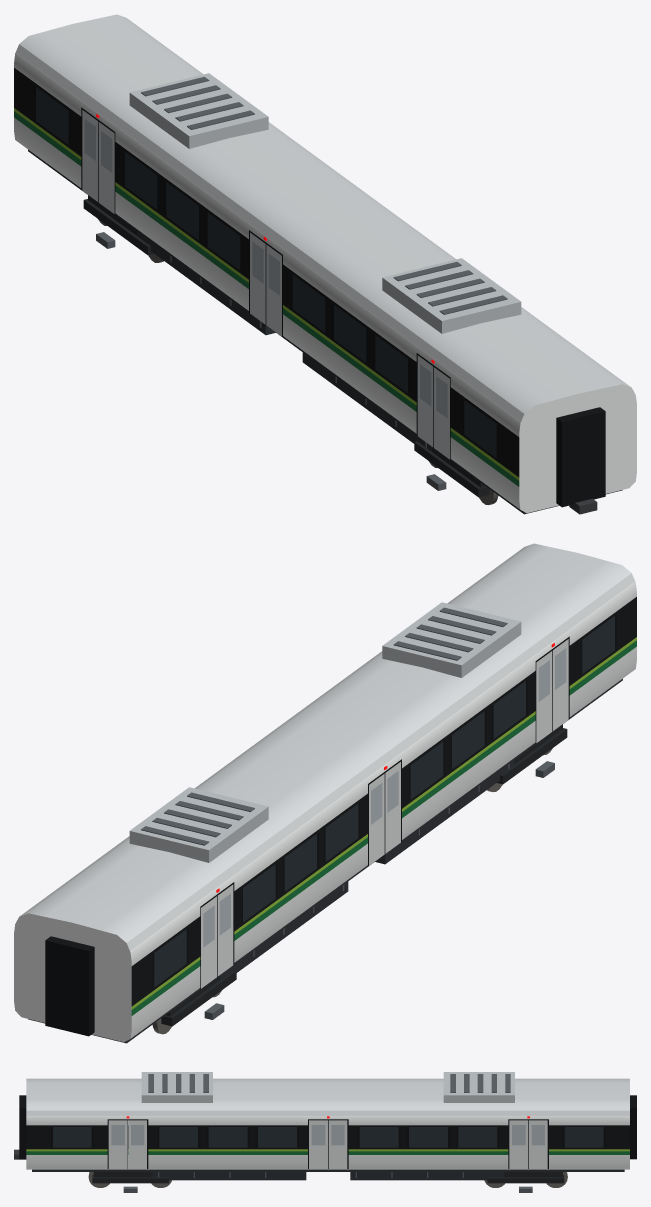
File: taichung-mrt-middle.glb
The picture shows the model from 3 angles, top to bottom: view 1: azimuth 30°, elevation 25°; view 2: azimuth 150°, elevation 25°; view 3: azimuth 270°, elevation 25°; orthographic projection. The views are drawn at different scales.
Parts seen in each view (by area): view 1: TaichungMRT_Middle; view 2: TaichungMRT_Middle; view 3: TaichungMRT_Middle.
Part boxes in pixels (x1=…): TaichungMRT_Middle: x1=14, y1=14, x2=636, y2=514; TaichungMRT_Middle: x1=14, y1=543, x2=636, y2=1043; TaichungMRT_Middle: x1=14, y1=1072, x2=636, y2=1192.
Size of the model in its own units: 3.04 by 3.84 by 22.7.
